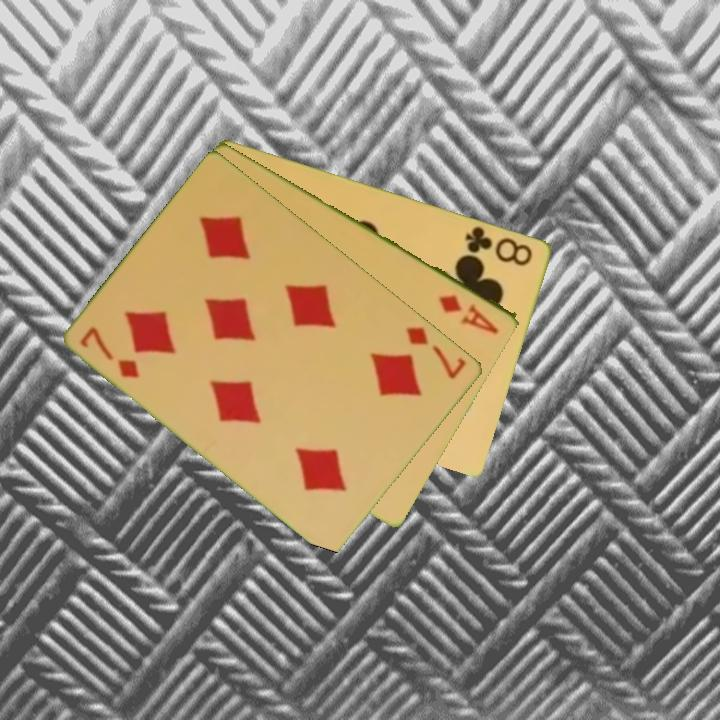7d: (402, 322, 470, 382), (77, 323, 143, 381)
8c: (462, 222, 536, 269)
Ad: (435, 290, 502, 337)
